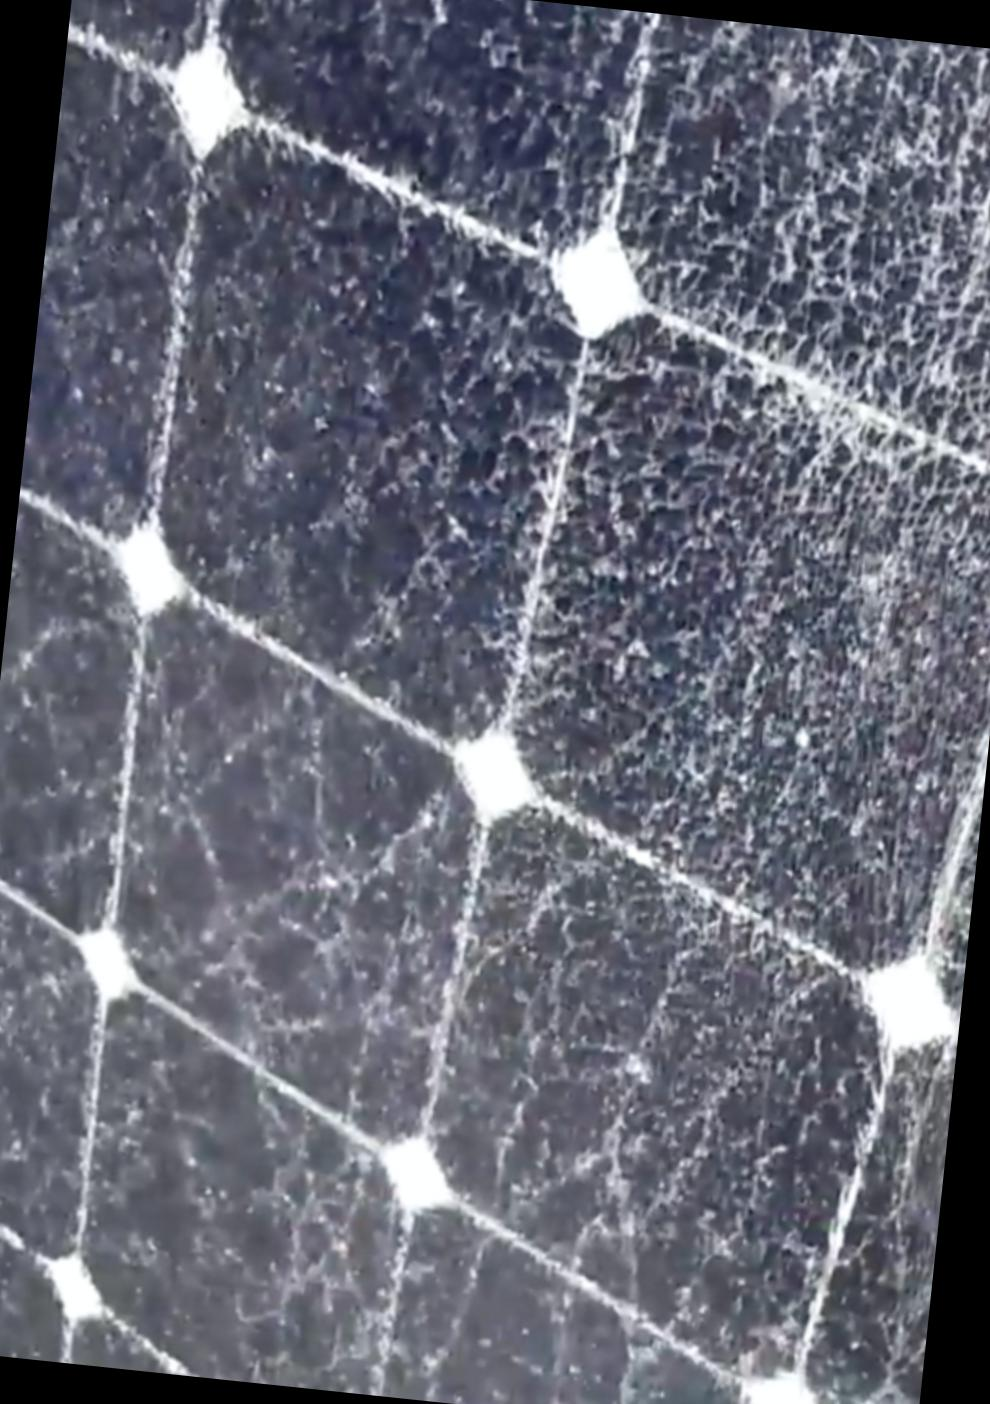Crack: (0, 0, 989, 1400)
